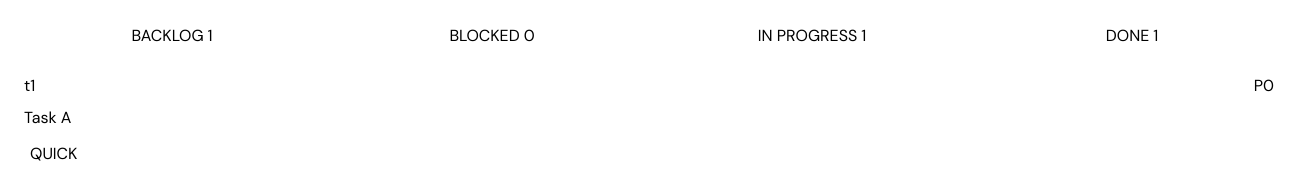
Test: KanbanBoardTabs › switches tabs on click
The width and height of the screenshot is (1291, 178).
Expected: the text "Task A" is shown, [24,107,72,128]
Step 1. Click the text "BACKLOG" → (168, 36), box [131,25,204,46]
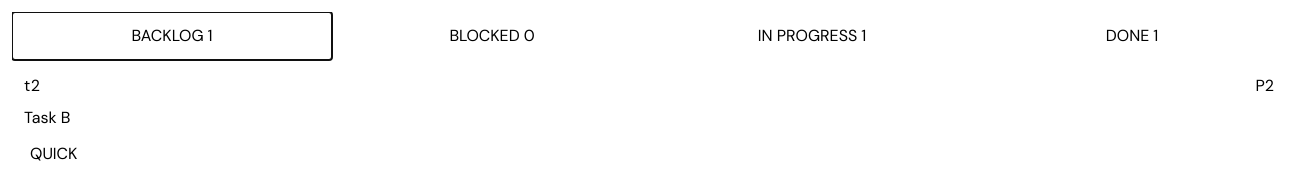
Expected: the text "Task B" is shown, [24,107,70,128]
Expected: the button "Task A" is gone
